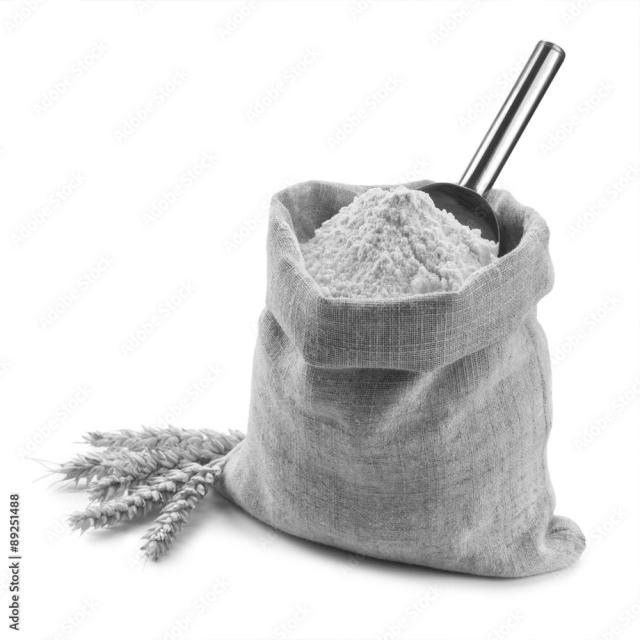sack: (210, 178, 586, 579)
